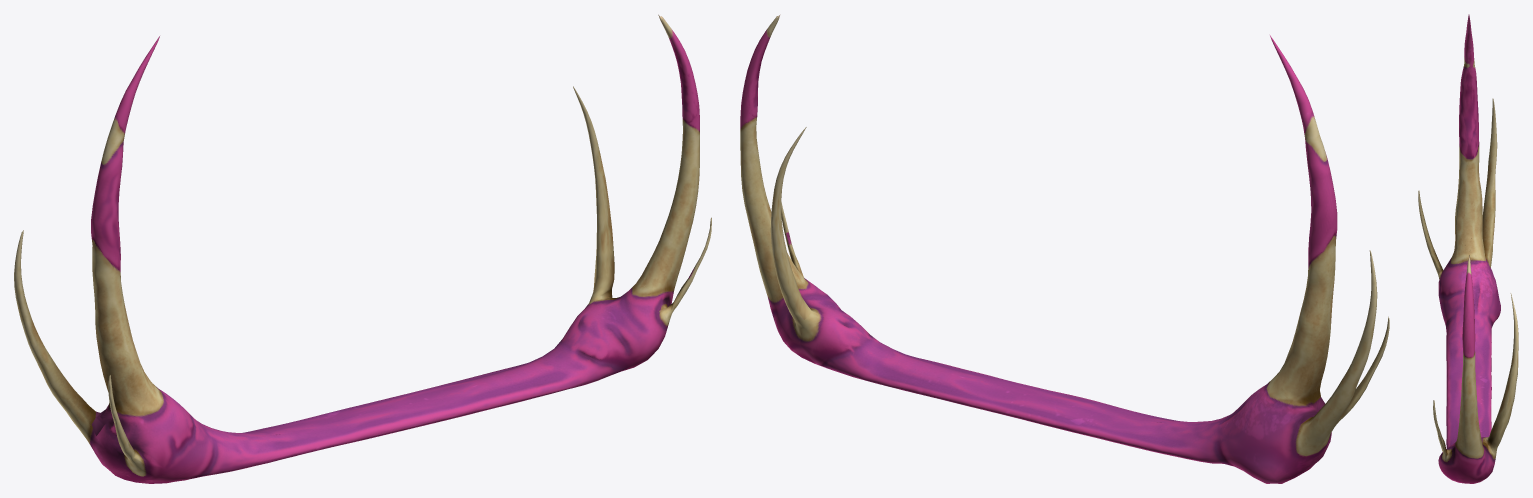
File: parasiteWallBroken.fbx
3 views of the same model, side by side, from view 1: azimuth 30°, elevation 25°; view 2: azimuth 150°, elevation 25°; view 3: azimuth 270°, elevation 25° (orthographic). The views are drawn at different scales.
Parts seen in each view (by area): view 1: parasiteWallBroken; view 2: parasiteWallBroken; view 3: parasiteWallBroken.
Part boxes in pixels (box(x1,y1,x2,y2)): parasiteWallBroken: box(14, 14, 711, 483); parasiteWallBroken: box(740, 14, 1389, 483); parasiteWallBroken: box(1418, 14, 1518, 483).
Bounding box in the file's own units: 458 × 291 × 85.26.
